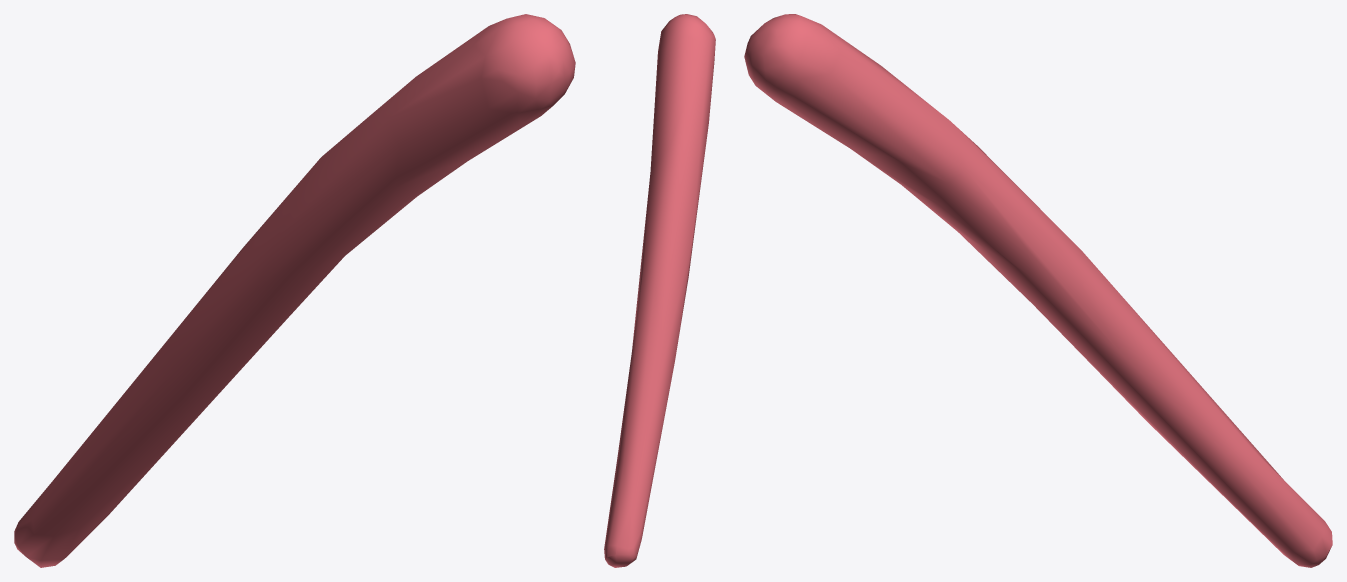
Rendered from fma8673_fj3056.glb.
3 renders of one model, left to right at view 1: azimuth 30°, elevation 25°; view 2: azimuth 150°, elevation 25°; view 3: azimuth 270°, elevation 25°, orthographic. The views are drawn at different scales.
Visible parts, largest first — view 1: FMA8673_FJ3056; view 2: FMA8673_FJ3056; view 3: FMA8673_FJ3056.
Part boxes in pixels (x1,y1,x2,y2): FMA8673_FJ3056: (14,14,575,567); FMA8673_FJ3056: (604,14,715,567); FMA8673_FJ3056: (744,14,1332,567).
Size of the model in its own units: 0.0102 by 0.0281 by 0.024.
